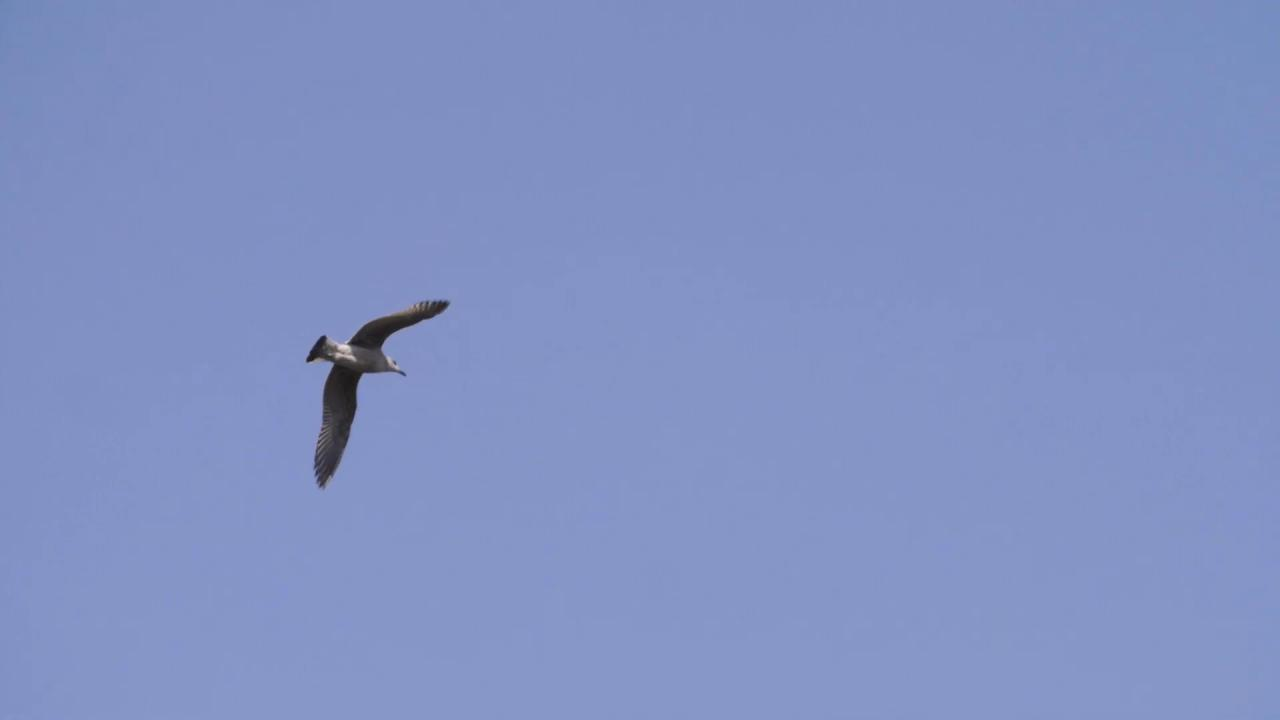Bird: (284, 280, 468, 506)
